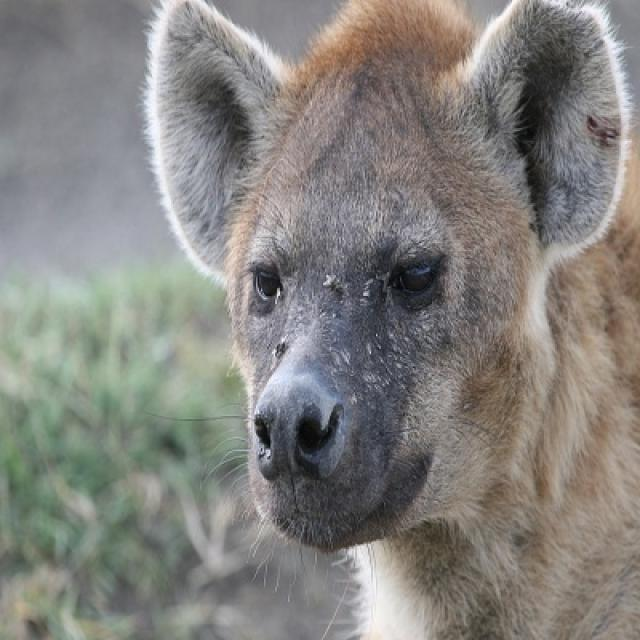hyena: (141, 0, 638, 638)
